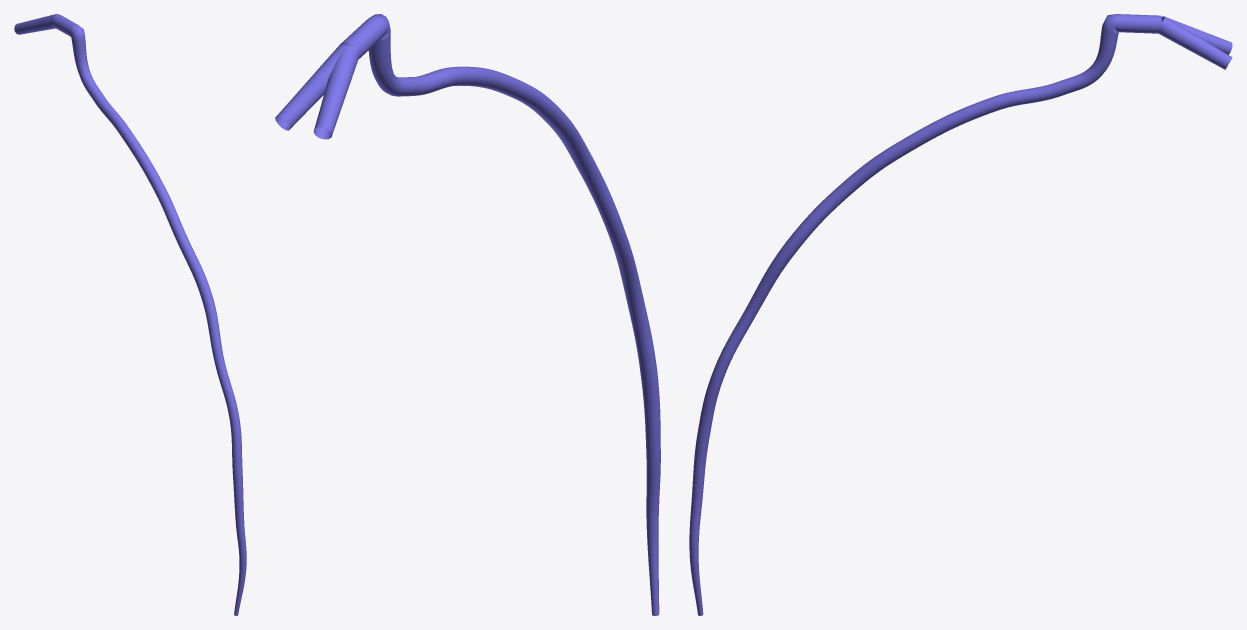
The model's file is Deep_dorsal_vein_of_penis_BezierCurve.339.glb.
3 renders of one model, left to right at view 1: azimuth 30°, elevation 25°; view 2: azimuth 150°, elevation 25°; view 3: azimuth 270°, elevation 25°, orthographic. The views are drawn at different scales.
Visible parts, largest first — view 1: Deep_dorsal_vein_of_penis_BezierCurve.339; view 2: Deep_dorsal_vein_of_penis_BezierCurve.339; view 3: Deep_dorsal_vein_of_penis_BezierCurve.339.
Boxes of the visible parts, x1=… form: Deep_dorsal_vein_of_penis_BezierCurve.339: x1=14, y1=14, x2=246, y2=615; Deep_dorsal_vein_of_penis_BezierCurve.339: x1=275, y1=14, x2=660, y2=615; Deep_dorsal_vein_of_penis_BezierCurve.339: x1=689, y1=14, x2=1232, y2=615.
Size of the model in its own units: 0.00539 by 0.0728 by 0.0595.
